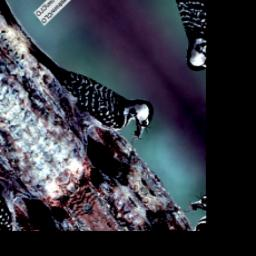Woodpecker: (20, 3, 164, 171)
